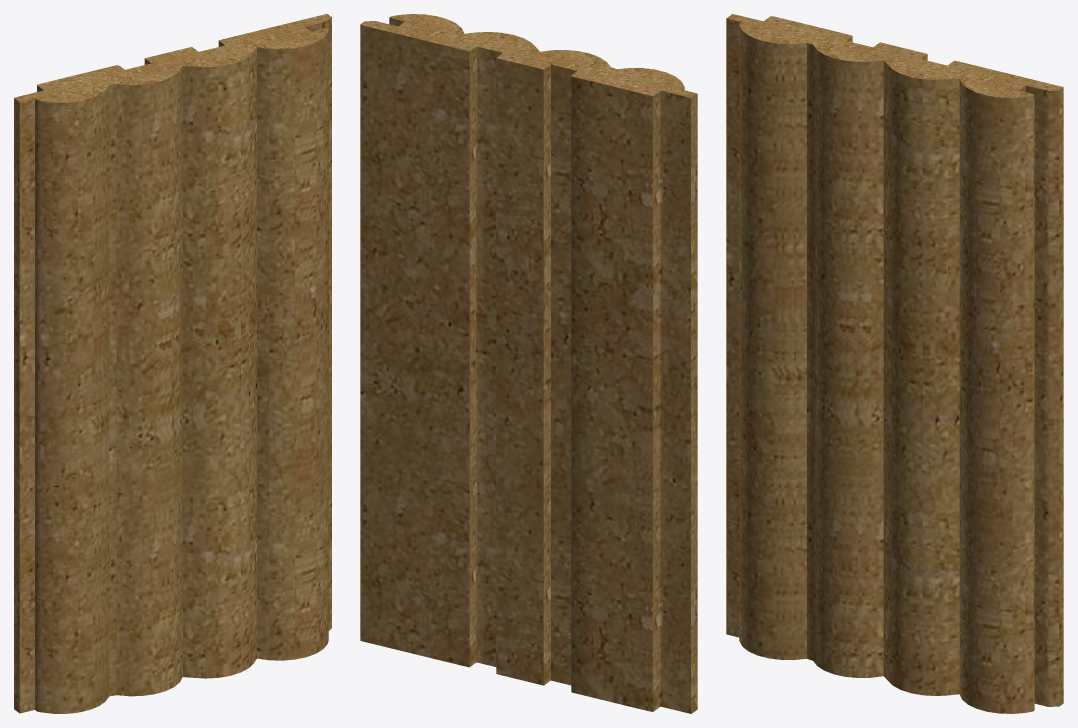
The model's file is Rigel.glb.
3 views of the same model, side by side, from view 1: azimuth 30°, elevation 25°; view 2: azimuth 150°, elevation 25°; view 3: azimuth 330°, elevation 25° (orthographic).
Visible parts, largest first — view 1: root; view 2: root; view 3: root.
Part boxes in pixels (<box>): root: <box>14,14,331,713</box>; root: <box>360,14,697,713</box>; root: <box>726,14,1063,713</box>.
Bounding box in the file's own units: 0.12 × 0.2182 × 0.018.
Materials: 3 (3 with a texture image).
